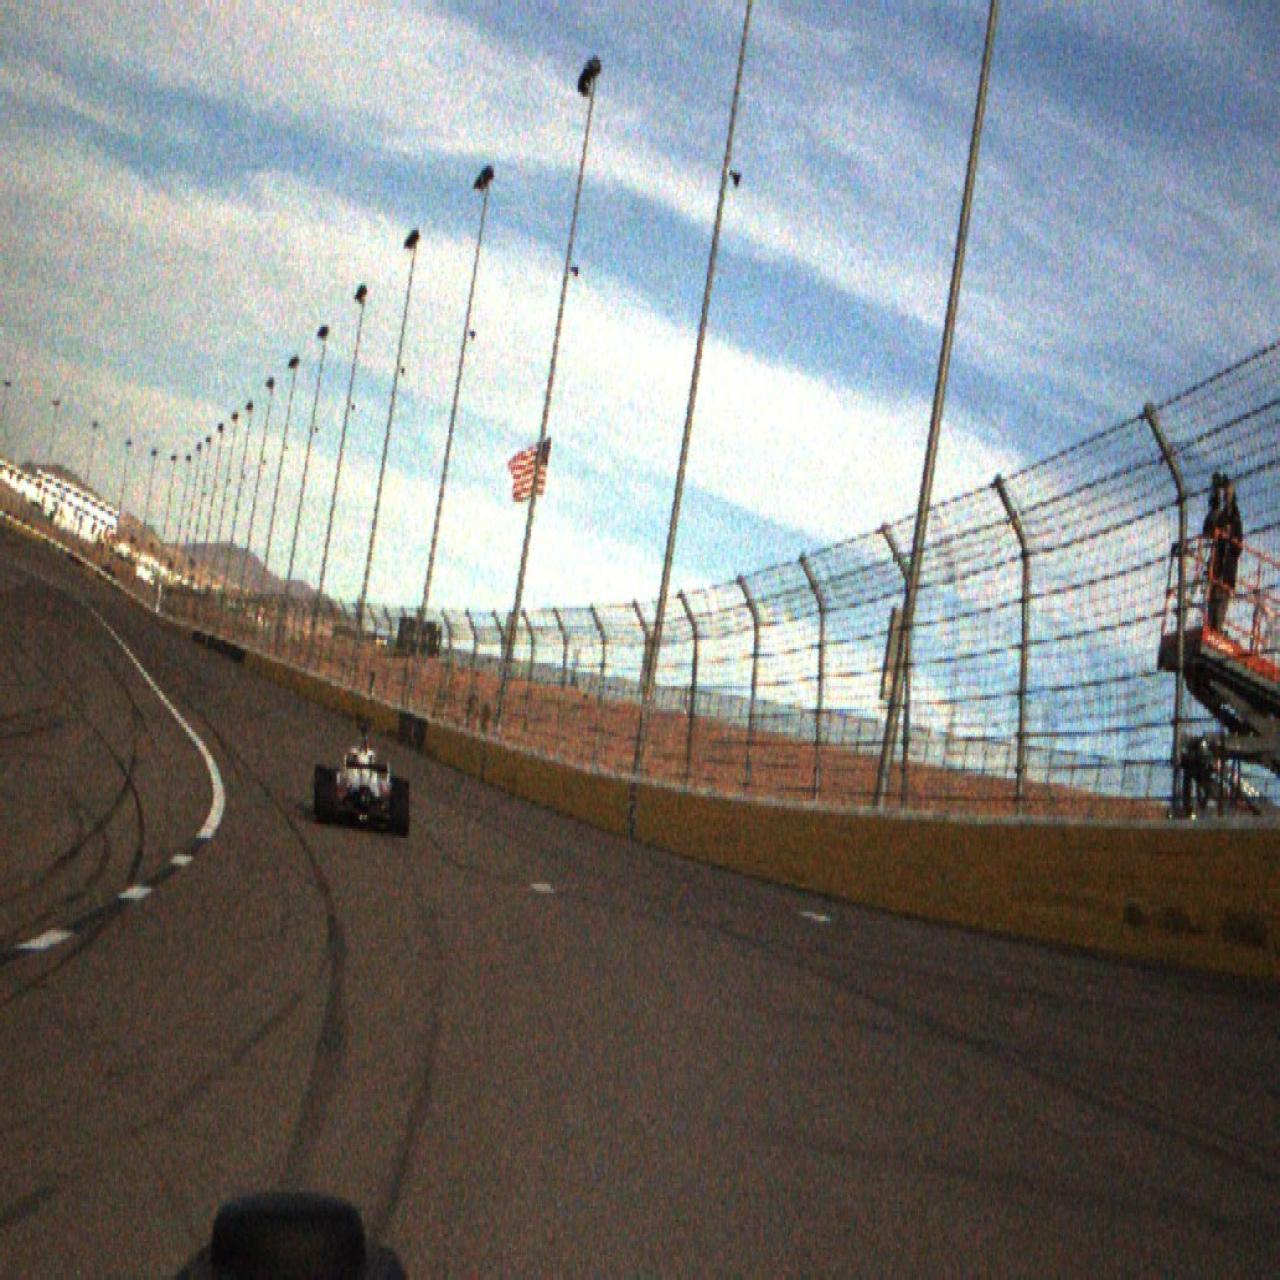AV: (314, 716, 410, 836)
Wheel: (314, 768, 336, 824), (392, 778, 409, 836)
